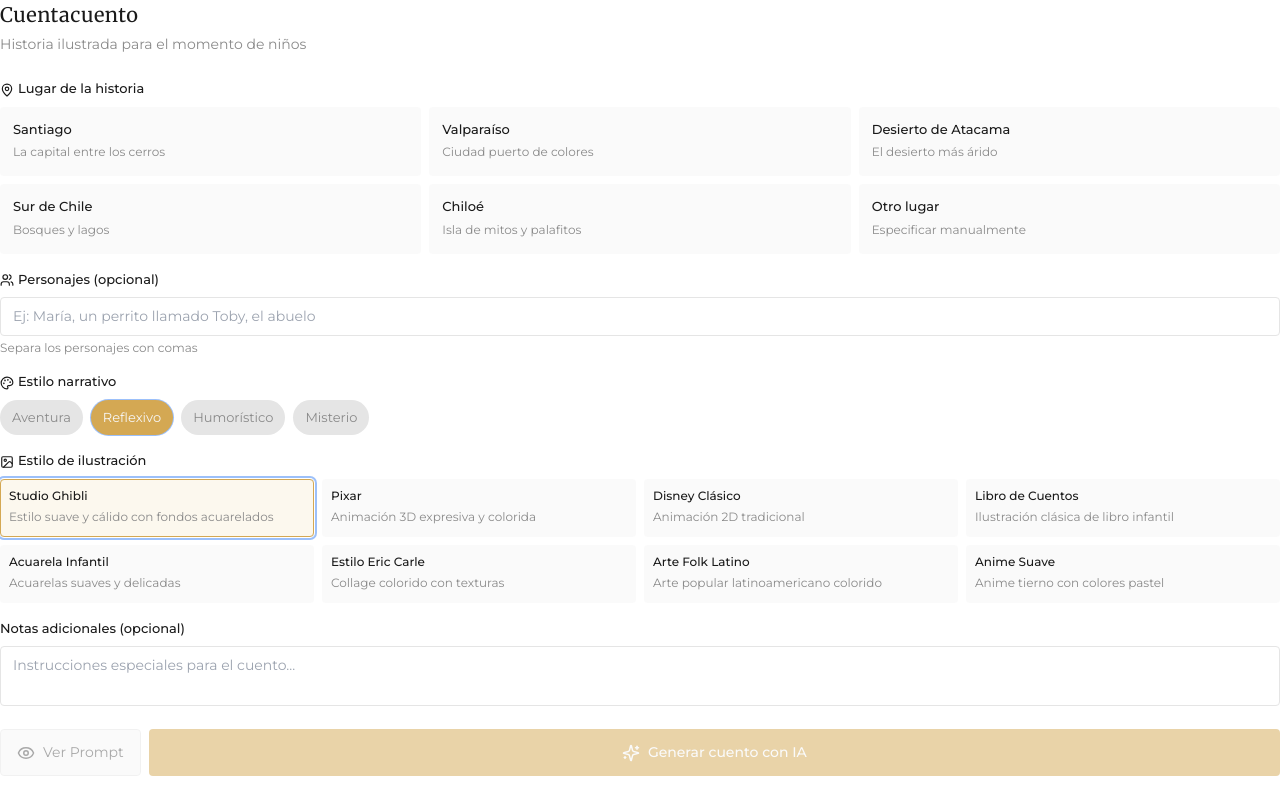
it: T-U.3 — aviso en una generación exitosa › renderiza el encabezado fijo, los roles de accesibilidad y los mensajes DEL SERVIDOR verbatim
This screenshot has width=1280, height=795.
Click the button "Santiago La capital entre los cerros": click(42, 128) [0, 106, 421, 176]
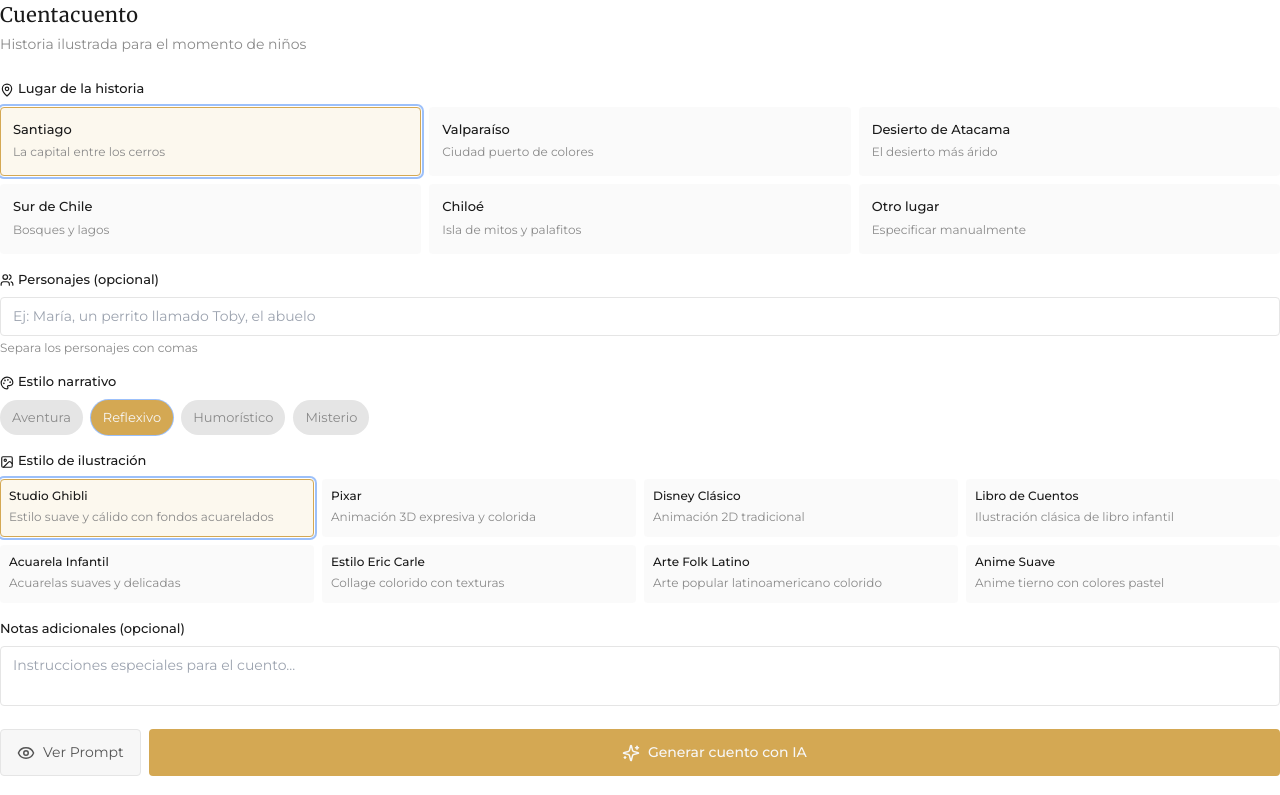
Click the button "Generar cuento con IA": click(714, 752) [149, 729, 1279, 776]
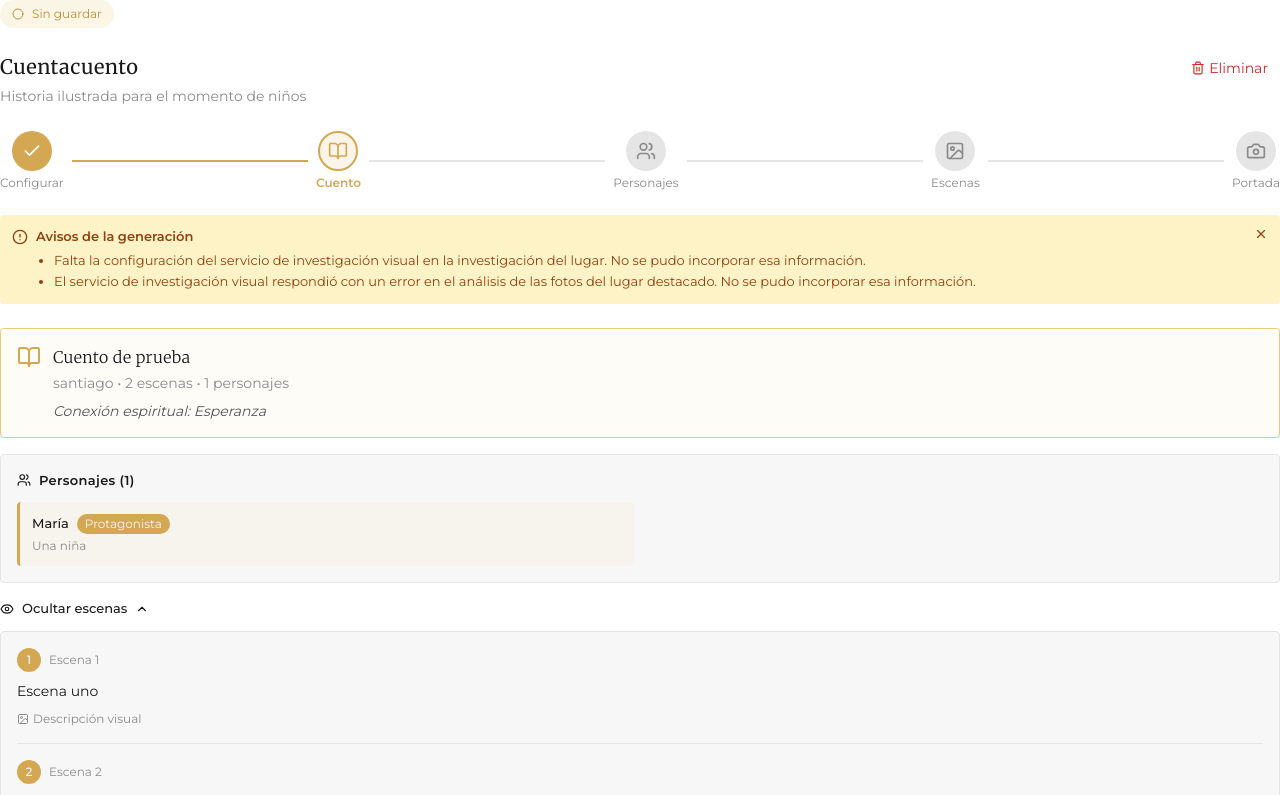
Expected: the message is shown, [0, 215, 1279, 304]
Expected: the text "Avisos de la generación" is shown, [36, 228, 193, 244]
